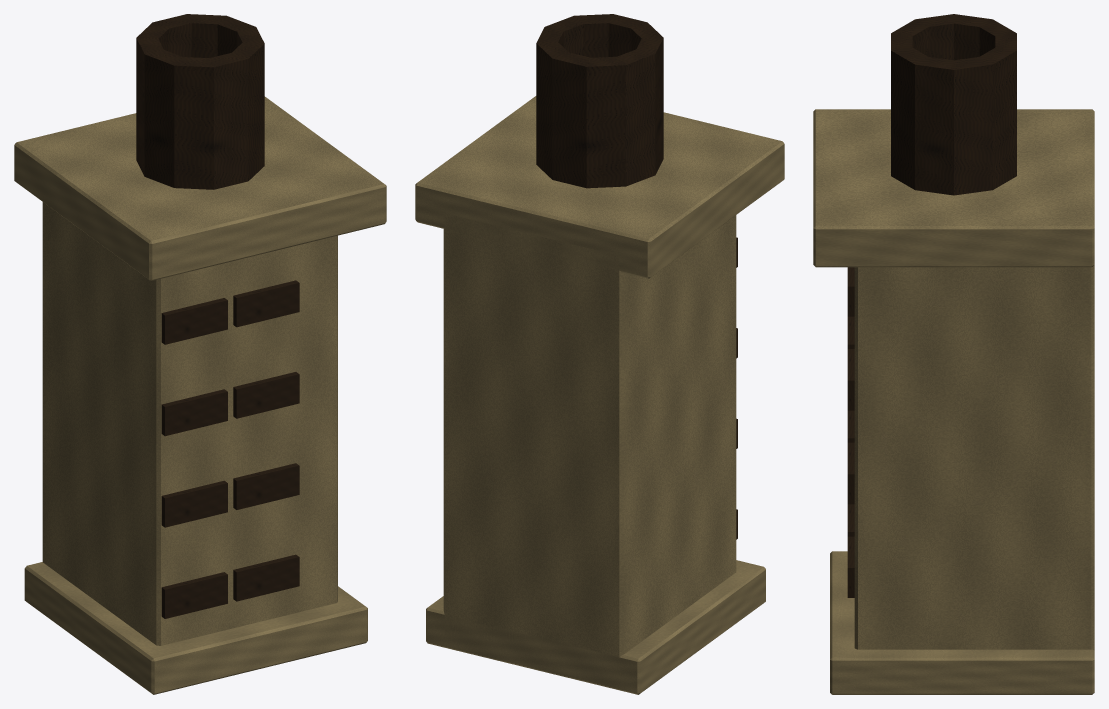
Rendered from chimney.glb.
The picture shows the model from 3 angles, left to right: view 1: azimuth 30°, elevation 25°; view 2: azimuth 150°, elevation 25°; view 3: azimuth 270°, elevation 25°; orthographic projection. The views are drawn at different scales.
Parts seen in each view (by area): view 1: chimney; view 2: chimney; view 3: chimney.
Part boxes in pixels (bbox=[...]): chimney: bbox=[14, 14, 386, 694]; chimney: bbox=[415, 14, 784, 694]; chimney: bbox=[813, 14, 1094, 694].
Bounding box in the file's own units: 0.68 × 1.6 × 0.68.
1 material, 1 textured.
